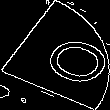O_NW: (11, 23, 99, 87)
